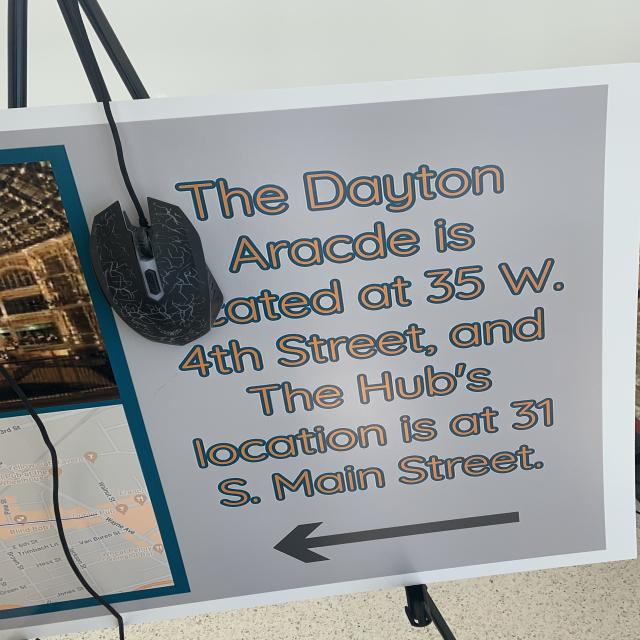Mouse: (76, 191, 240, 352)
